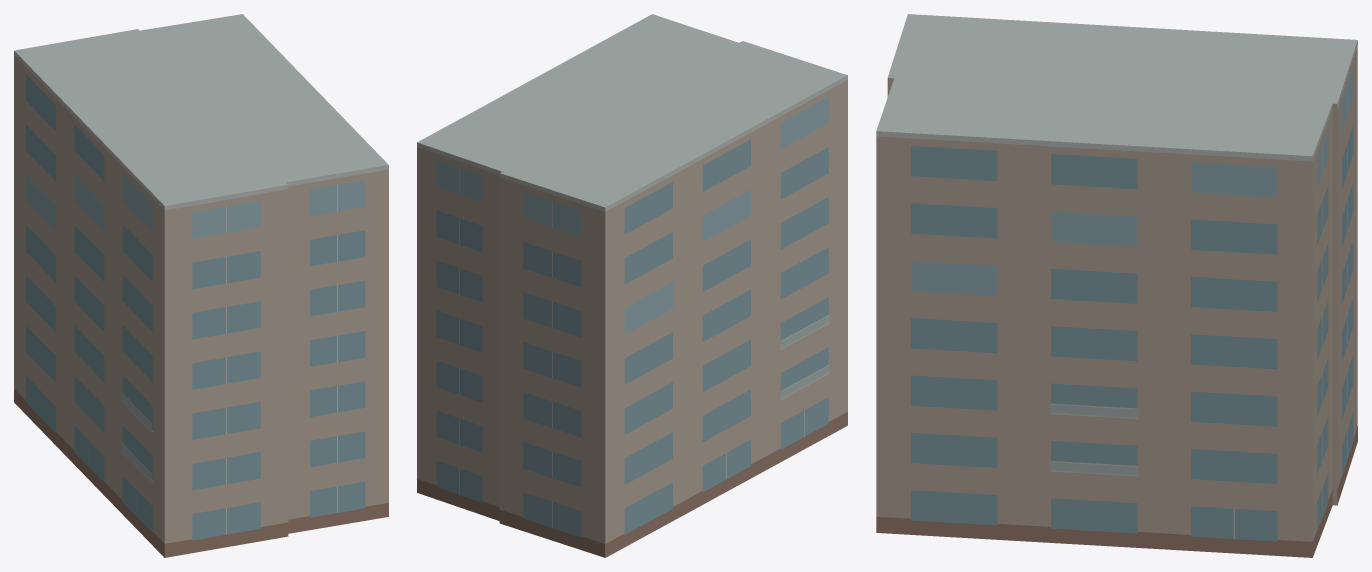
The model's file is survey-upis-32737686.glb.
3 views of the same model, side by side, from view 1: azimuth 30°, elevation 25°; view 2: azimuth 150°, elevation 25°; view 3: azimuth 270°, elevation 25° (orthographic). The views are drawn at different scales.
Visible parts, largest first — view 1: survey-upis-32737686.tmp; view 2: survey-upis-32737686.tmp; view 3: survey-upis-32737686.tmp.
Part boxes in pixels (left/top/right/bottom): survey-upis-32737686.tmp: left=14, top=14, right=388, bottom=557; survey-upis-32737686.tmp: left=417, top=14, right=847, bottom=557; survey-upis-32737686.tmp: left=876, top=14, right=1357, bottom=557.
Size of the model in its own units: 14.29 by 18.8 by 20.44.
